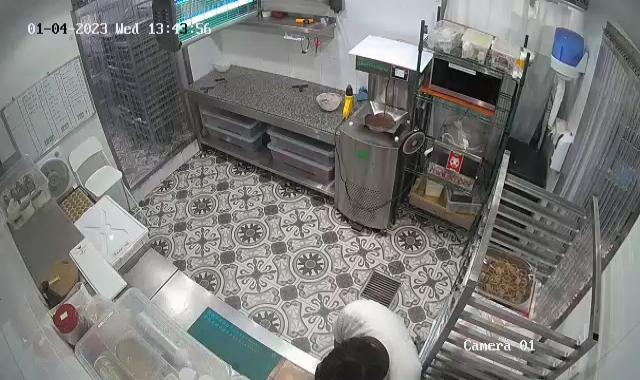no_hairnet: (314, 338, 388, 380)
